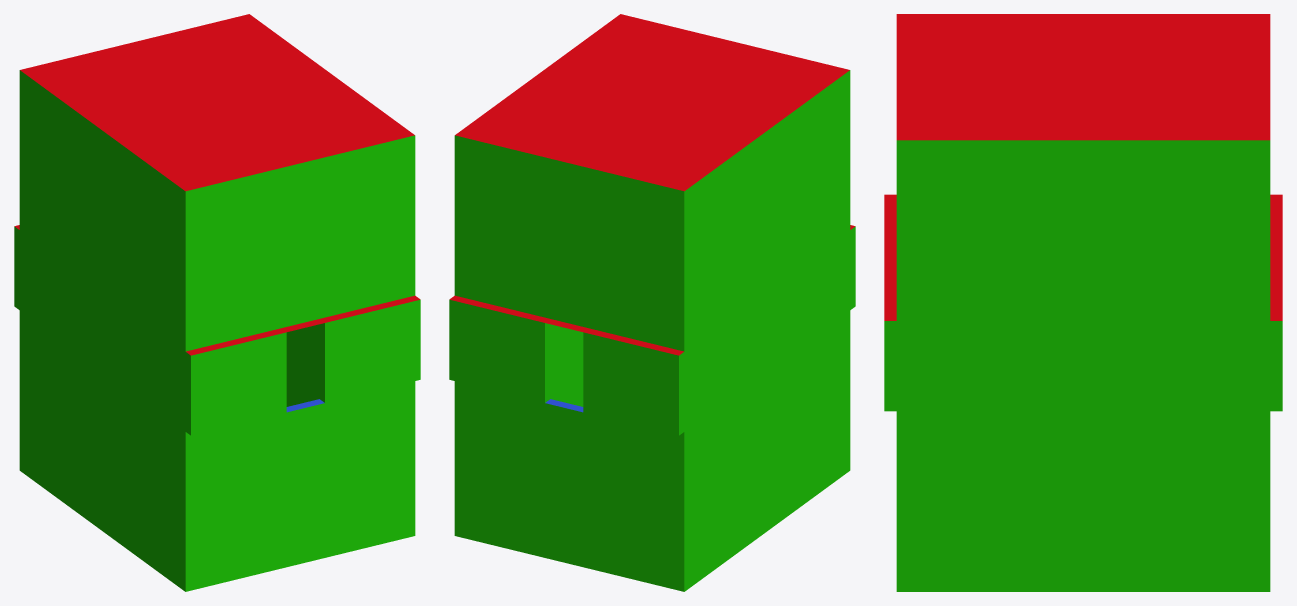
File: 3x4_Room_Deep_and_Tall.fbx
The picture shows the model from 3 angles, left to right: view 1: azimuth 30°, elevation 25°; view 2: azimuth 150°, elevation 25°; view 3: azimuth 270°, elevation 25°; orthographic projection. The views are drawn at different scales.
Visible parts, largest first — view 1: 3x4 Room Deep and Tall; view 2: 3x4 Room Deep and Tall; view 3: 3x4 Room Deep and Tall.
Boxes of the visible parts, x1=… form: 3x4 Room Deep and Tall: x1=14, y1=14, x2=420, y2=591; 3x4 Room Deep and Tall: x1=449, y1=14, x2=855, y2=591; 3x4 Room Deep and Tall: x1=884, y1=14, x2=1282, y2=591.
Bounding box in the file's own units: 2400 × 4000 × 3200.
